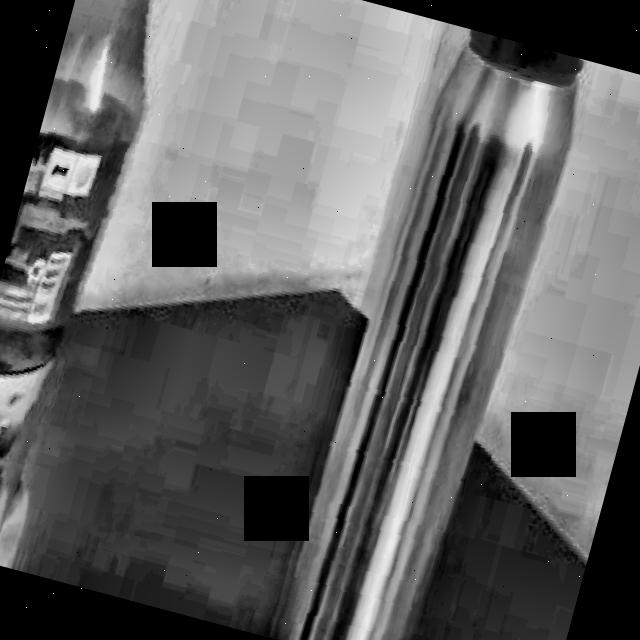bottle: (271, 29, 588, 640), (0, 0, 153, 527)
